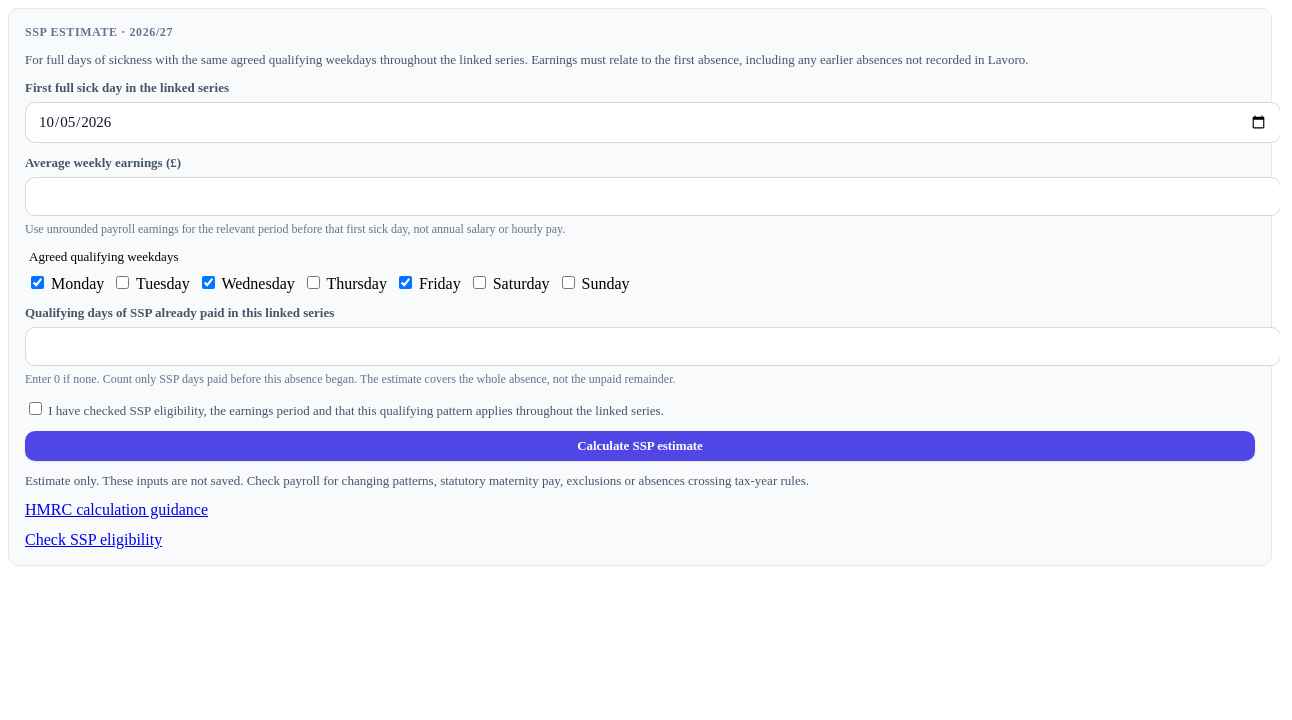
it: requires eligibility confirmation before displaying a payment estimate
The image size is (1292, 720).
Type "100" into the number field labelled "Average weekly earnings (£)" at (652,196), box [25,177,1280,216]
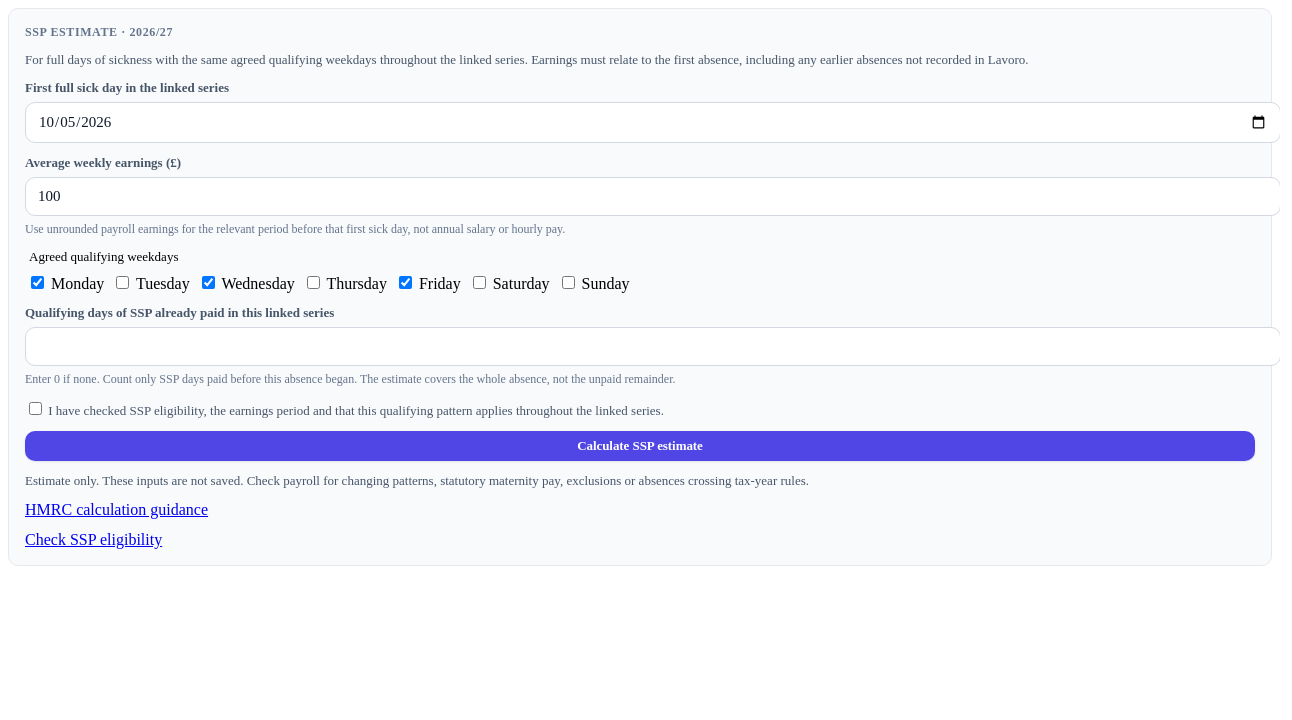
Type "0" into the number field labelled "Qualifying days of SSP already paid in this linked series" at (652,346), box [25,327,1280,366]
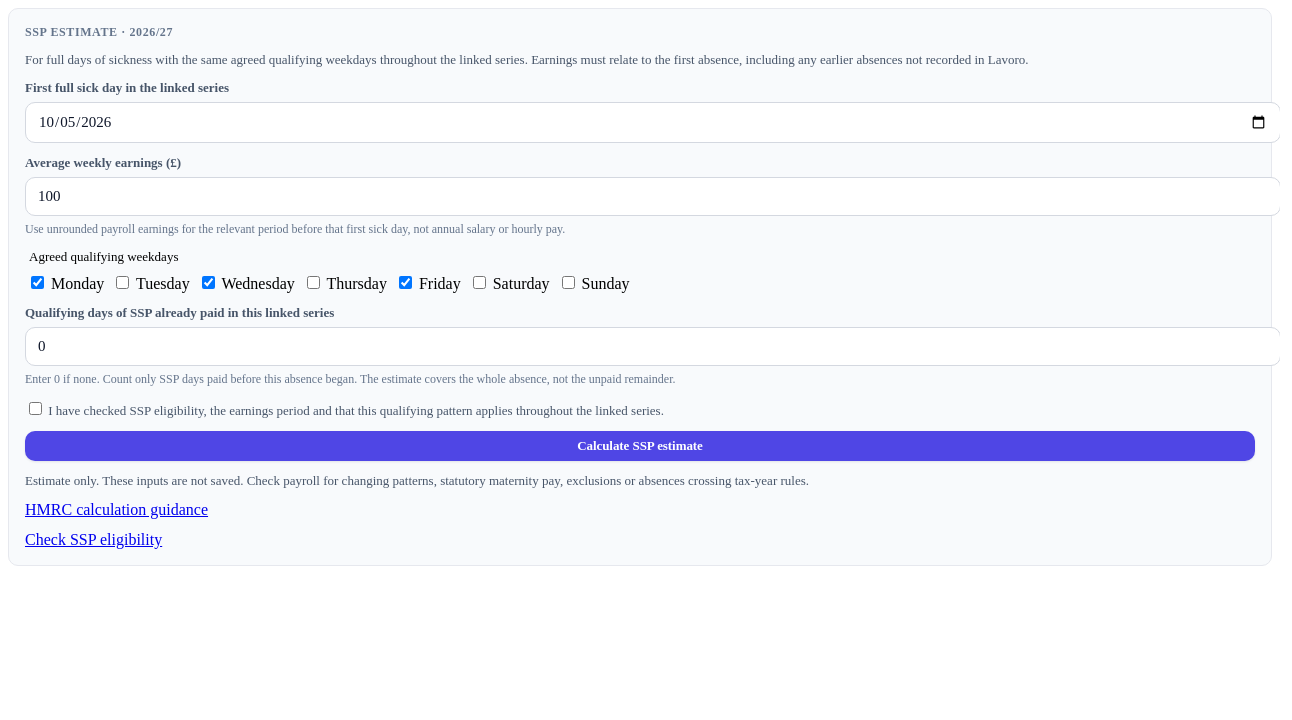
Click the button "Calculate SSP estimate" at (640,446), box [25,431,1255,461]
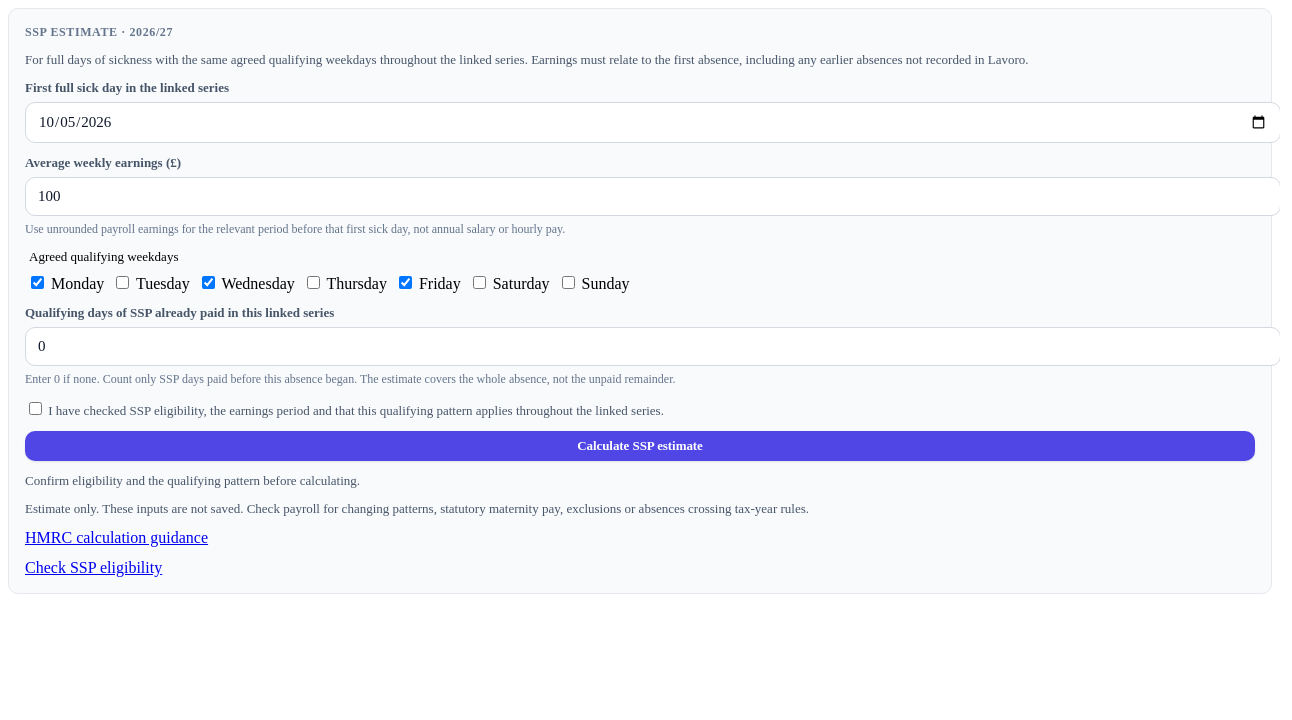
expect the message shows "Confirm eligibility": met, box [25,473,360,488]
